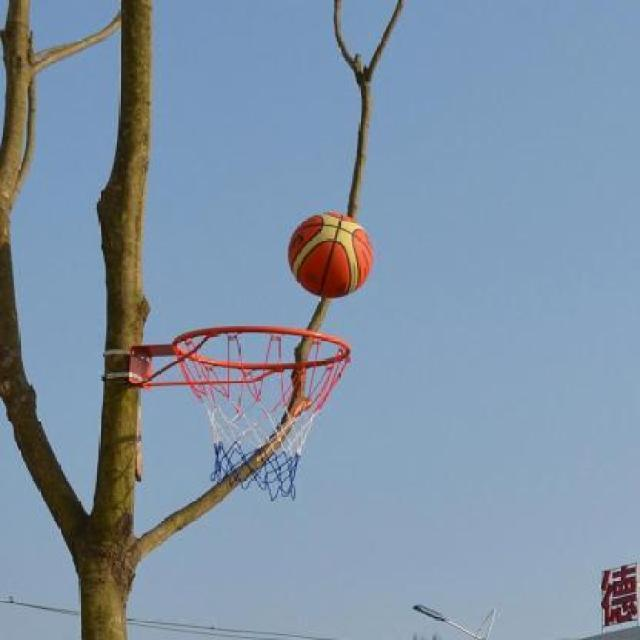basketball: (288, 212, 374, 296)
rim: (172, 326, 352, 502)
